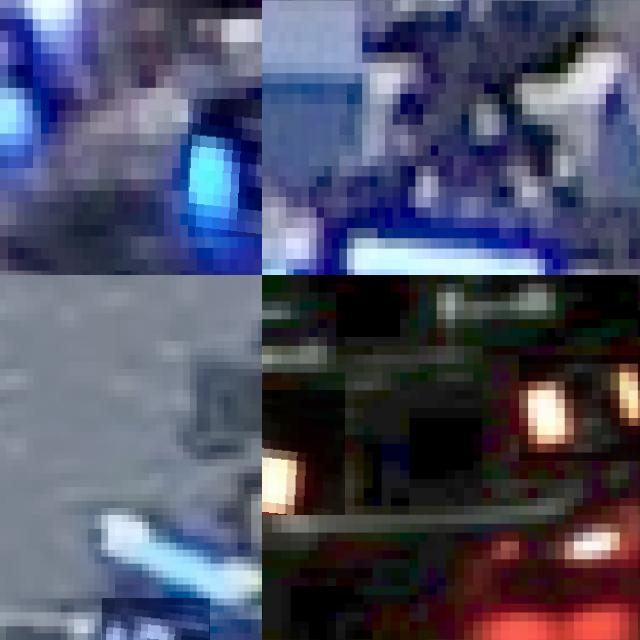B3: (188, 99, 262, 236), (0, 19, 32, 167)
B5: (101, 598, 210, 640)
Rs: (519, 354, 640, 461), (262, 390, 345, 514)
